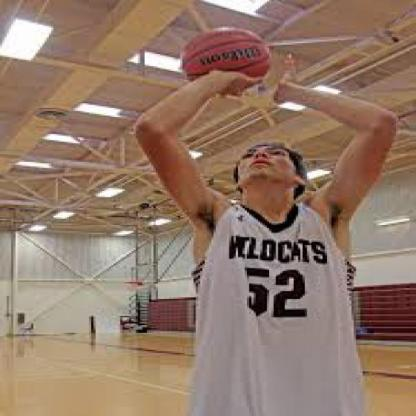basketball: (182, 26, 272, 91)
